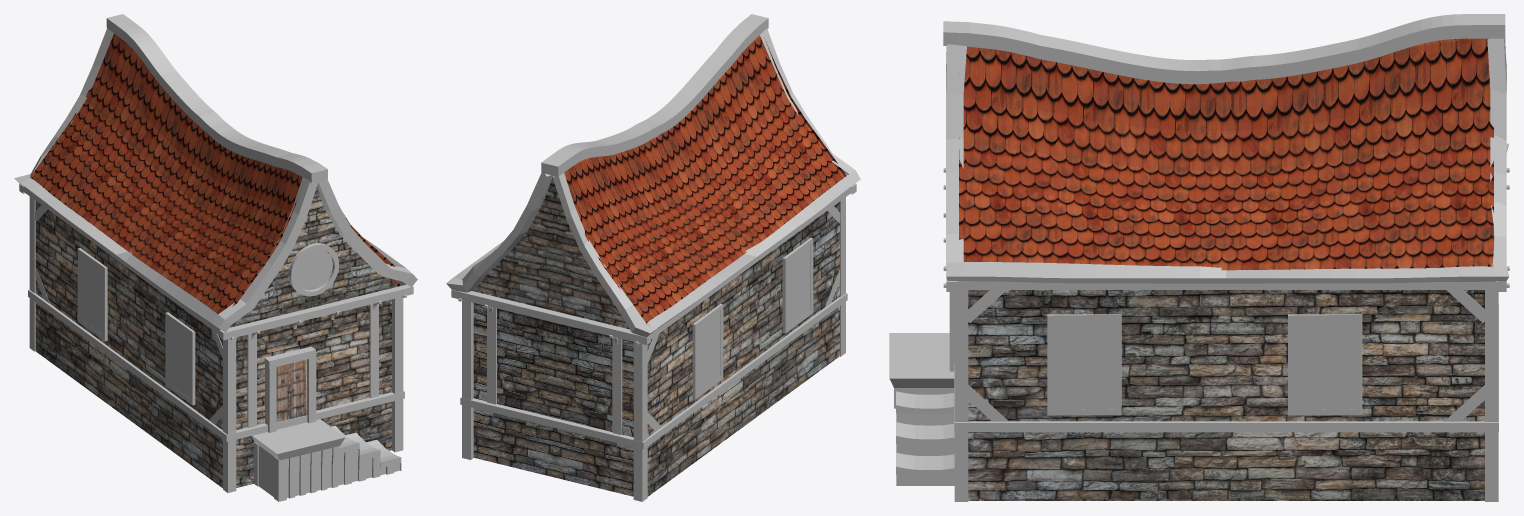
File: DOMIK.fbx
3 views of the same model, side by side, from view 1: azimuth 30°, elevation 25°; view 2: azimuth 150°, elevation 25°; view 3: azimuth 270°, elevation 25° (orthographic). The views are drawn at different scales.
Visible parts, largest first — view 1: Cube, Cube.005, Cube.025, Cube.006, Cube.011, Cube.001, Plane.003, Plane.004, Cube.009, Cube.007, Cube.004, Cube.013 (+10 smaller); view 2: Cube, Cube.005, Cube.025, Cube.006, Cube.011, Plane.003, Plane.004, Cube.007, Cube.004, Cube.013, Cube.003, Cube.018; view 3: Cube.005, Cube, Cube.025, Cube.006, Plane.001, Plane.002, Cube.004, Cube.011, Cube.018, Cube.008, Cube.009, Cube.001 (+2 smaller).
Part boxes in pixels (bbox=[...]): Cube: bbox=[35, 188, 397, 487]; Cube.005: bbox=[30, 33, 399, 326]; Cube.025: bbox=[14, 28, 417, 332]; Cube.006: bbox=[106, 14, 327, 182]; Cube.011: bbox=[29, 196, 403, 492]; Cube.001: bbox=[258, 445, 401, 498]; Plane.003: bbox=[165, 312, 195, 405]; Plane.004: bbox=[77, 248, 107, 341]; Cube.009: bbox=[251, 419, 345, 460]; Cube.007: bbox=[19, 184, 413, 340]; Cube.004: bbox=[28, 290, 404, 441]; Cube.013: bbox=[247, 303, 378, 427]; Cube: bbox=[471, 179, 839, 496]; Cube.005: bbox=[460, 35, 846, 325]; Cube.025: bbox=[446, 28, 860, 337]; Cube.006: bbox=[541, 14, 768, 176]; Cube.011: bbox=[462, 197, 845, 501]; Plane.003: bbox=[782, 238, 813, 333]; Plane.004: bbox=[692, 304, 723, 399]; Cube.007: bbox=[451, 184, 856, 344]; Cube.004: bbox=[460, 293, 847, 449]; Cube.013: bbox=[487, 307, 622, 434]; Cube.003: bbox=[467, 398, 637, 447]; Cube.018: bbox=[650, 187, 852, 339]; Cube.005: bbox=[959, 38, 1493, 270]; Cube: bbox=[968, 290, 1484, 500]; Cube.025: bbox=[946, 38, 1509, 283]; Cube.006: bbox=[943, 14, 1505, 84]; Plane.001: bbox=[1047, 314, 1121, 415]; Plane.002: bbox=[1288, 314, 1362, 415]; Cube.004: bbox=[954, 304, 1498, 432]; Cube.011: bbox=[954, 290, 1498, 501]; Cube.018: bbox=[957, 281, 1495, 289]; Cube.008: bbox=[896, 391, 954, 477]; Cube.009: bbox=[889, 333, 954, 387]; Cube.001: bbox=[896, 388, 954, 485].
Bounding box in the file's own units: 600 × 880 × 1167.
